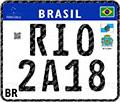Placa_mercosul_carro: (2, 2, 118, 99)
